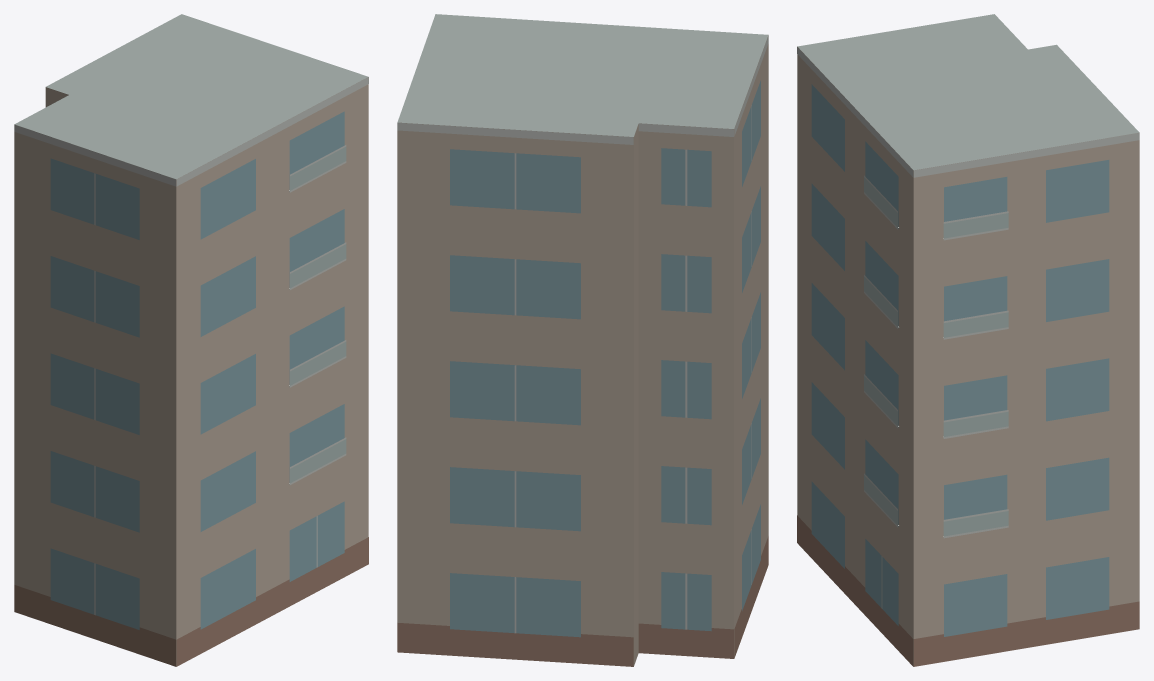
Rendered from survey-upis-33009859.glb.
3 views of the same model, side by side, from view 1: azimuth 30°, elevation 25°; view 2: azimuth 150°, elevation 25°; view 3: azimuth 270°, elevation 25° (orthographic). The views are drawn at different scales.
Visible parts, largest first — view 1: survey-upis-33009859.tmp; view 2: survey-upis-33009859.tmp; view 3: survey-upis-33009859.tmp.
Boxes of the visible parts, left/top/right/bottom form: survey-upis-33009859.tmp: left=14, top=14, right=368, bottom=666; survey-upis-33009859.tmp: left=397, top=14, right=768, bottom=666; survey-upis-33009859.tmp: left=797, top=14, right=1139, bottom=666.
Size of the model in its own units: 10.95 by 16.2 by 10.14.
